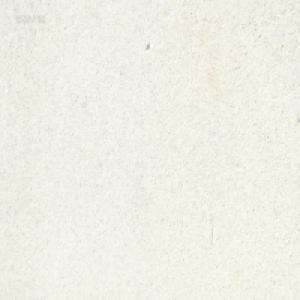Wrench: (188, 0, 195, 5)
